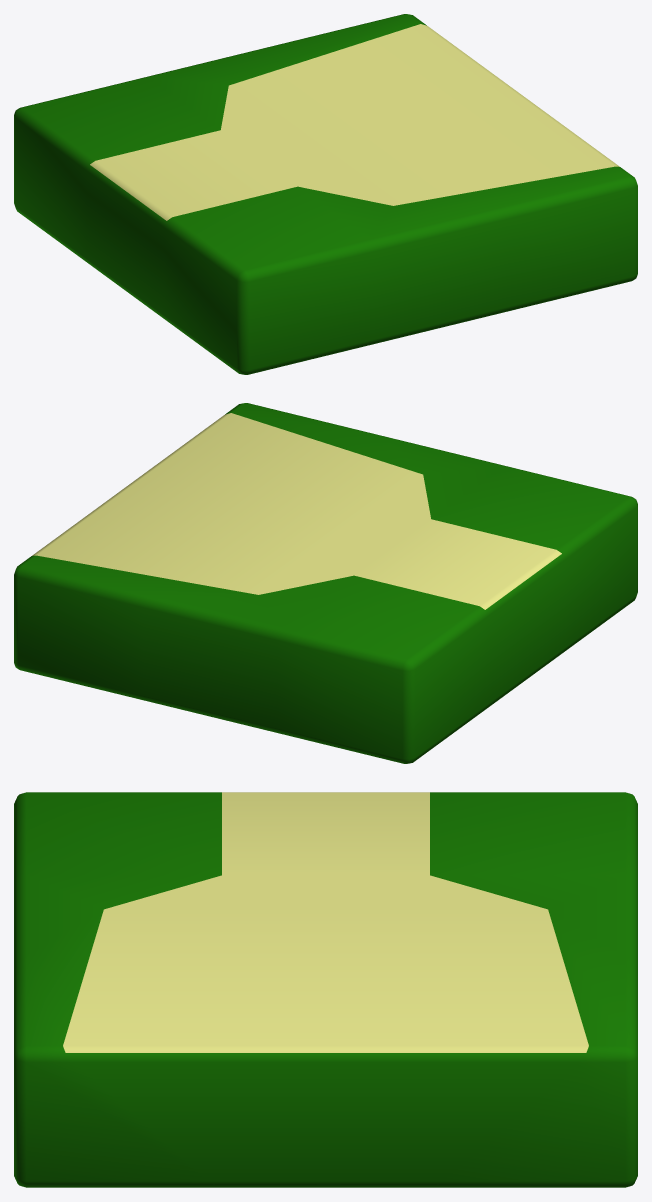
The model's file is end.glb.
3 views of the same model, one above another, from view 1: azimuth 30°, elevation 25°; view 2: azimuth 150°, elevation 25°; view 3: azimuth 270°, elevation 25° (orthographic). The views are drawn at different scales.
Visible parts, largest first — view 1: Cube; view 2: Cube; view 3: Cube.
Part boxes in pixels (box(x1,y1,x2,y2)): Cube: box(14, 14, 637, 374); Cube: box(14, 403, 637, 763); Cube: box(14, 792, 637, 1187).
Size of the model in its own units: 0.5 by 0.125 by 0.5.
